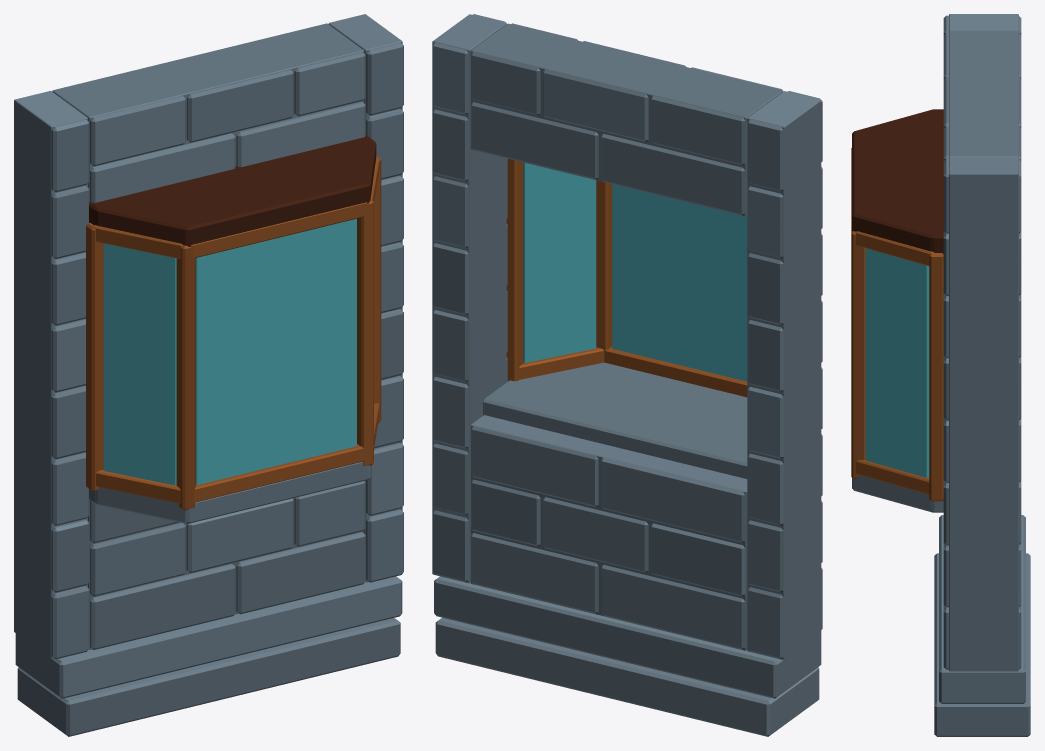
The model's file is EH_BayWindow_2m.fbx.
3 renders of one model, left to right at view 1: azimuth 30°, elevation 25°; view 2: azimuth 150°, elevation 25°; view 3: azimuth 270°, elevation 25°, orthographic. The views are drawn at different scales.
Visible parts, largest first — view 1: EH_BayWindow_2m; view 2: EH_BayWindow_2m; view 3: EH_BayWindow_2m.
Part boxes in pixels (bbox=[...]): EH_BayWindow_2m: bbox=[14, 14, 403, 736]; EH_BayWindow_2m: bbox=[432, 14, 822, 736]; EH_BayWindow_2m: bbox=[851, 14, 1030, 736].
Size of the model in its own units: 1.66 by 2.74 by 0.7825.
